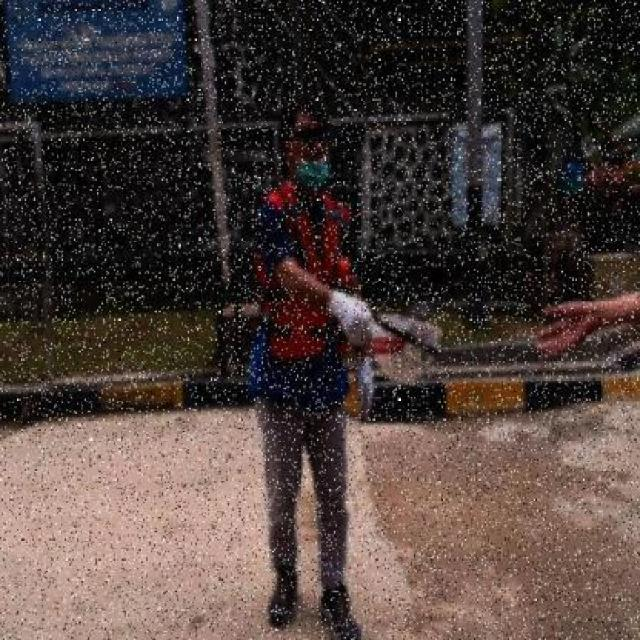Boots: (315, 575, 363, 639), (264, 559, 301, 630)
Gloves: (326, 283, 376, 354), (352, 352, 377, 423)
Helmet: (364, 310, 444, 385)
Mask: (297, 158, 332, 191)
Protective Glasses: (294, 128, 332, 148)
Vest: (270, 255, 353, 360)
